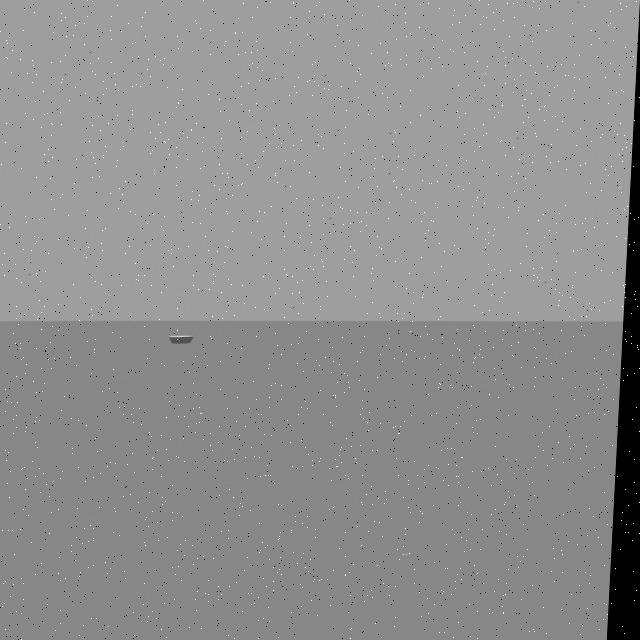bowl: (162, 322, 207, 366)
